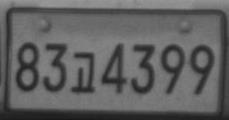3: (130, 43, 155, 94), (43, 43, 68, 92)
4: (100, 42, 127, 93)
8: (14, 41, 40, 91)
9: (188, 43, 215, 96), (159, 42, 186, 94)
고: (70, 51, 95, 93)
